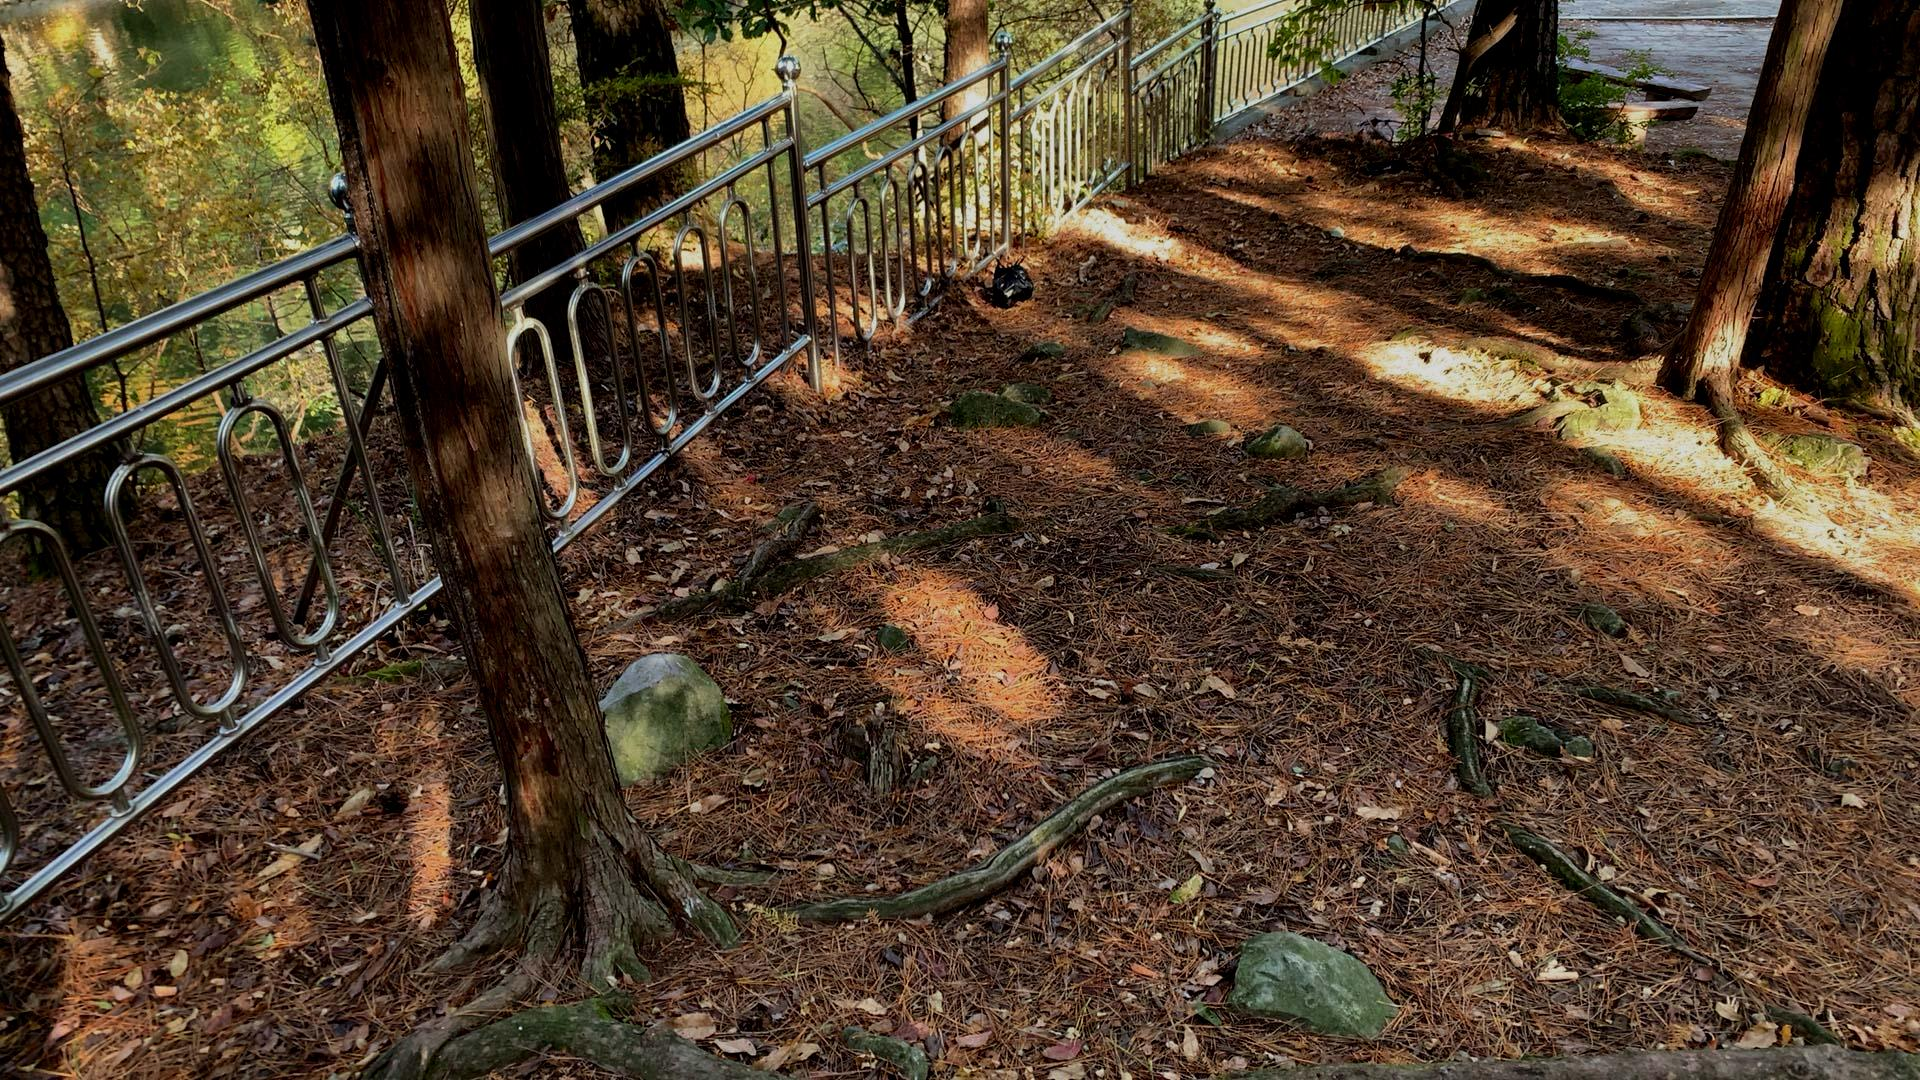black_bag: (988, 249, 1040, 310)
